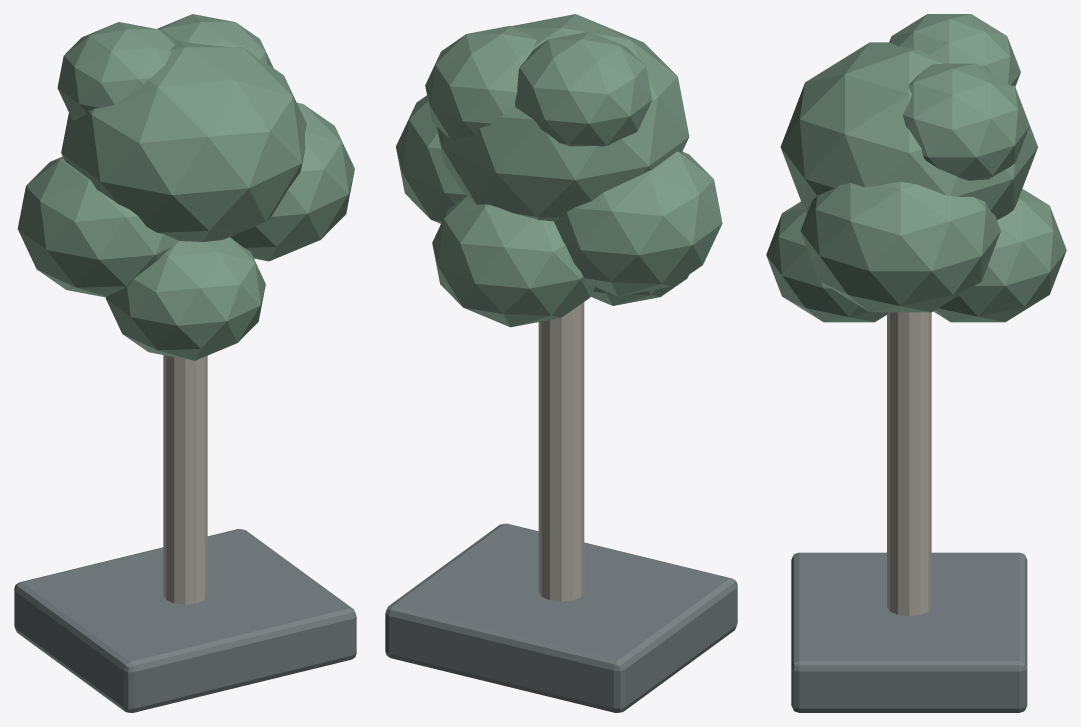
The model's file is australian-eucalyptus.glb.
The picture shows the model from 3 angles, left to right: view 1: azimuth 30°, elevation 25°; view 2: azimuth 150°, elevation 25°; view 3: azimuth 270°, elevation 25°; orthographic projection. The views are drawn at different scales.
Visible parts, largest first — view 1: eucalyptus_crown_0, eucalyptus_planter, eucalyptus_trunk; view 2: eucalyptus_crown_0, eucalyptus_planter, eucalyptus_trunk; view 3: eucalyptus_crown_0, eucalyptus_planter, eucalyptus_trunk.
Part boxes in pixels (x1,y1,x2,y2): eucalyptus_crown_0: (17, 14, 354, 360); eucalyptus_planter: (14, 529, 356, 712); eucalyptus_trunk: (163, 355, 207, 604); eucalyptus_crown_0: (396, 14, 722, 327); eucalyptus_planter: (385, 523, 737, 712); eucalyptus_trunk: (538, 302, 584, 601); eucalyptus_crown_0: (766, 14, 1066, 322); eucalyptus_planter: (791, 552, 1027, 712); eucalyptus_trunk: (887, 312, 931, 616).
Size of the model in its own units: 1.7 by 3.35 by 1.47.
